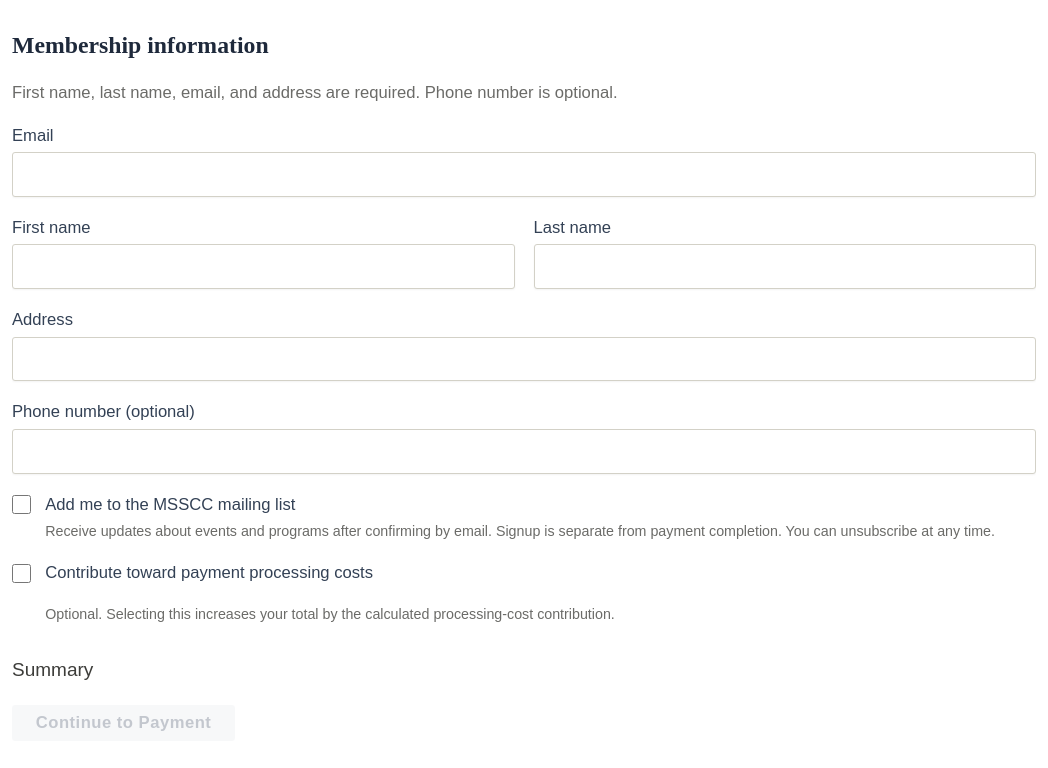
MembershipForm mailing-list feedback › hides feedback for a previous email address
In the field labelled "Email": (524, 174) [12,152,1036,197], type "MAYA@example.test"
In the field labelled "First name": (263, 267) [12,244,514,289], type "Maya"
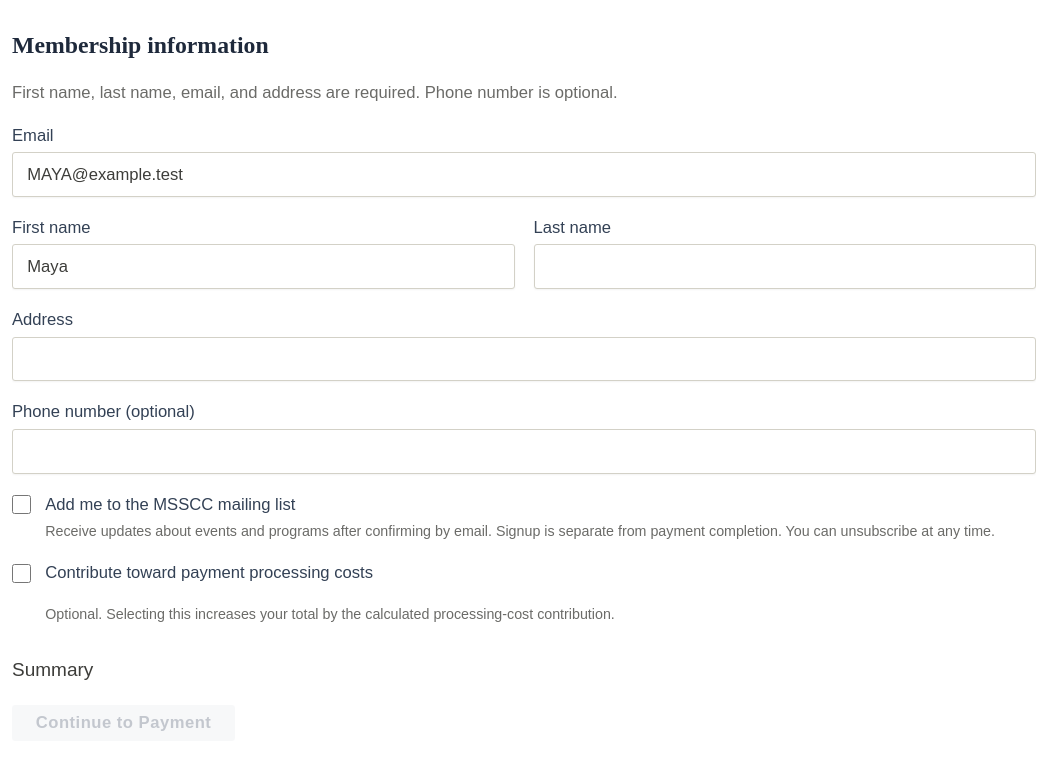
In the field labelled "Last name": (785, 267) [534,244,1036,289], type "Chen"
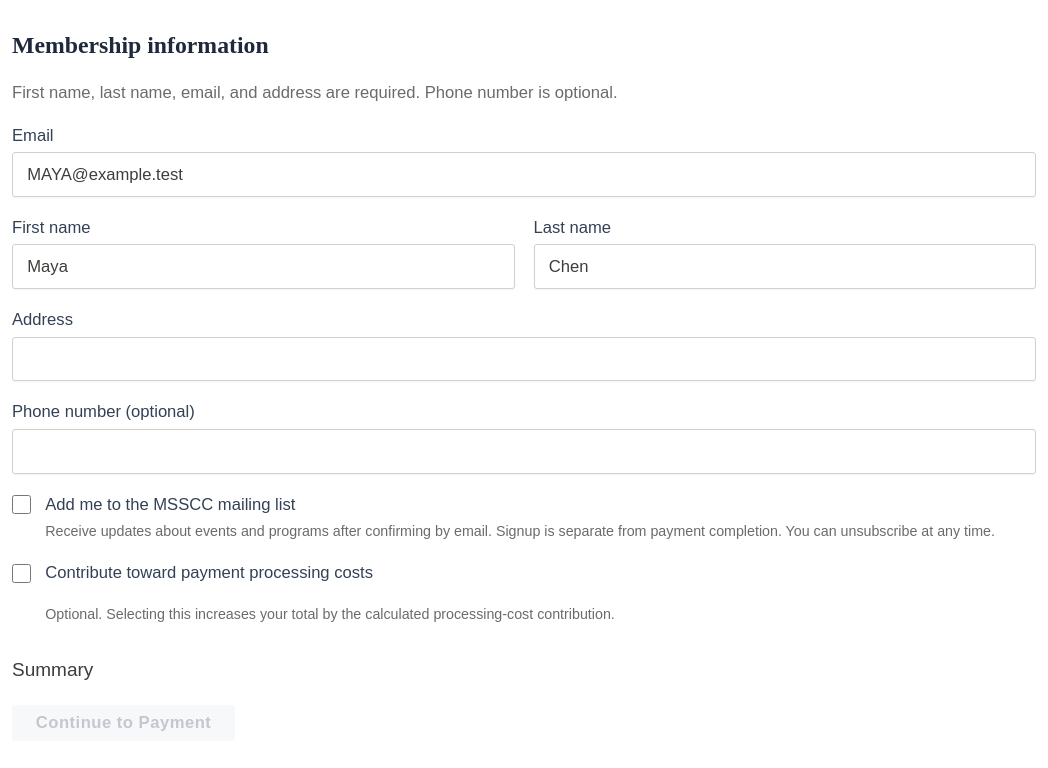
In the field labelled "Address": (524, 359) [12,336,1036,381], type "123 Main Street"
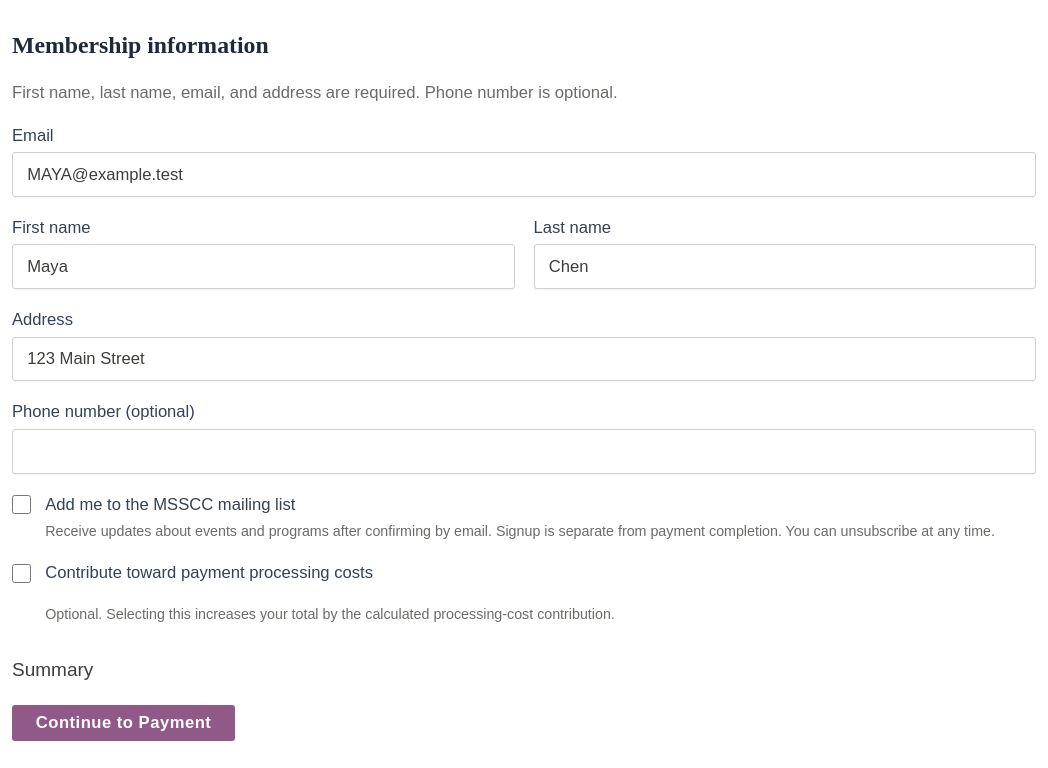
Click the checkbox labelled "MSSCC": (22, 504) [12,495,31,514]
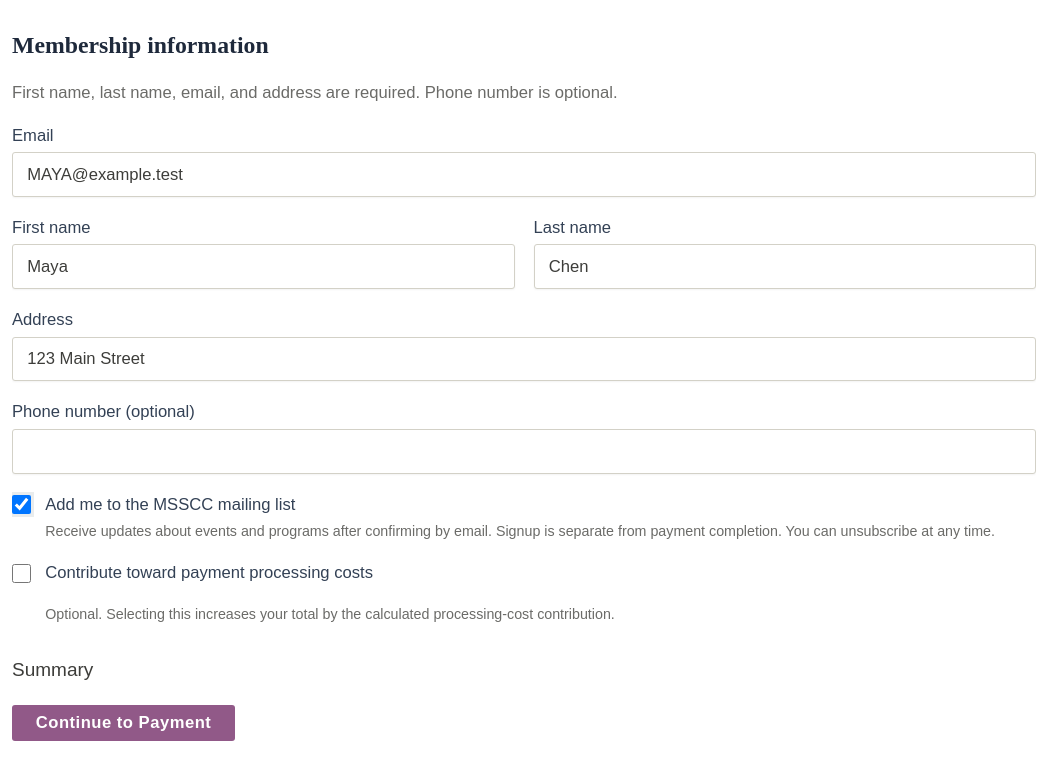
Click the button "Continue to Payment": (124, 723) [12,705,235,741]
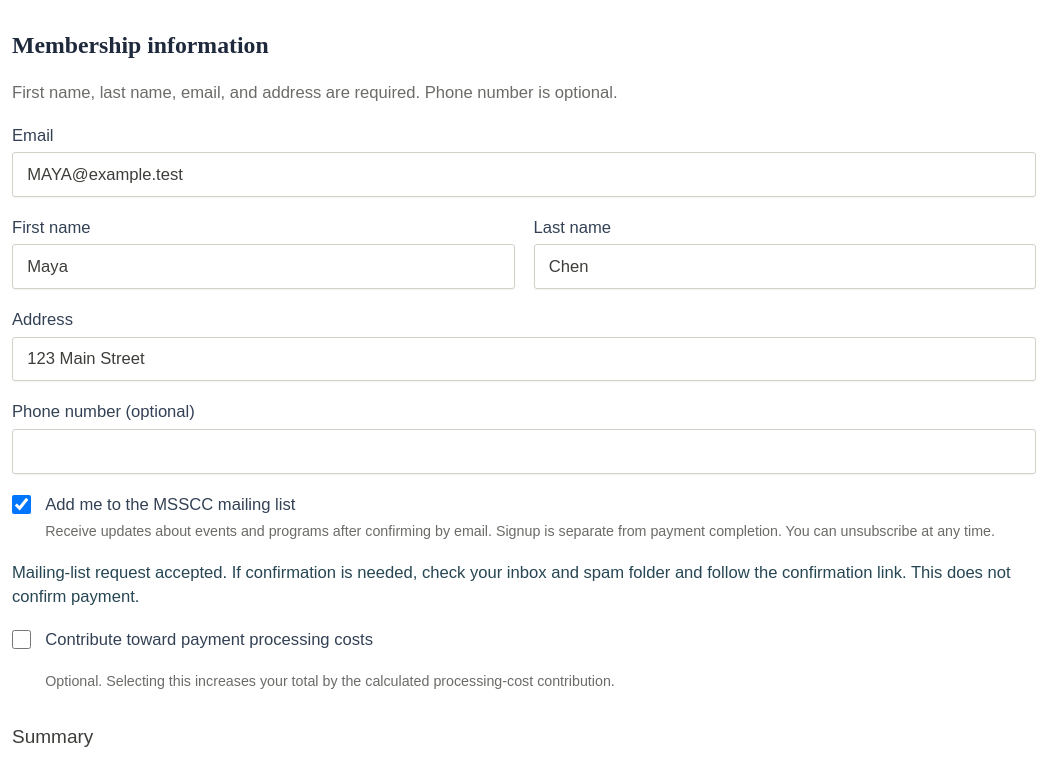
Result: the message is shown at [12,561,1036,609]
Replace the text in the field labelled "Email" with "other@example.test": (524, 174) [12,152,1036,197]
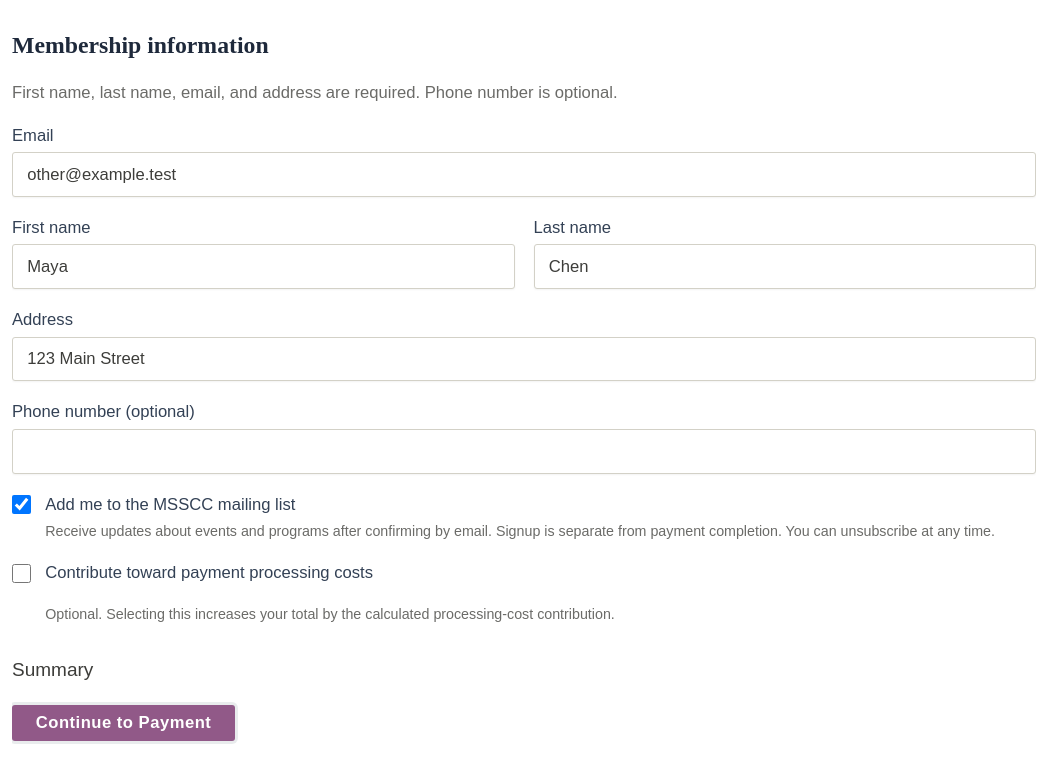
Result: the message is gone
